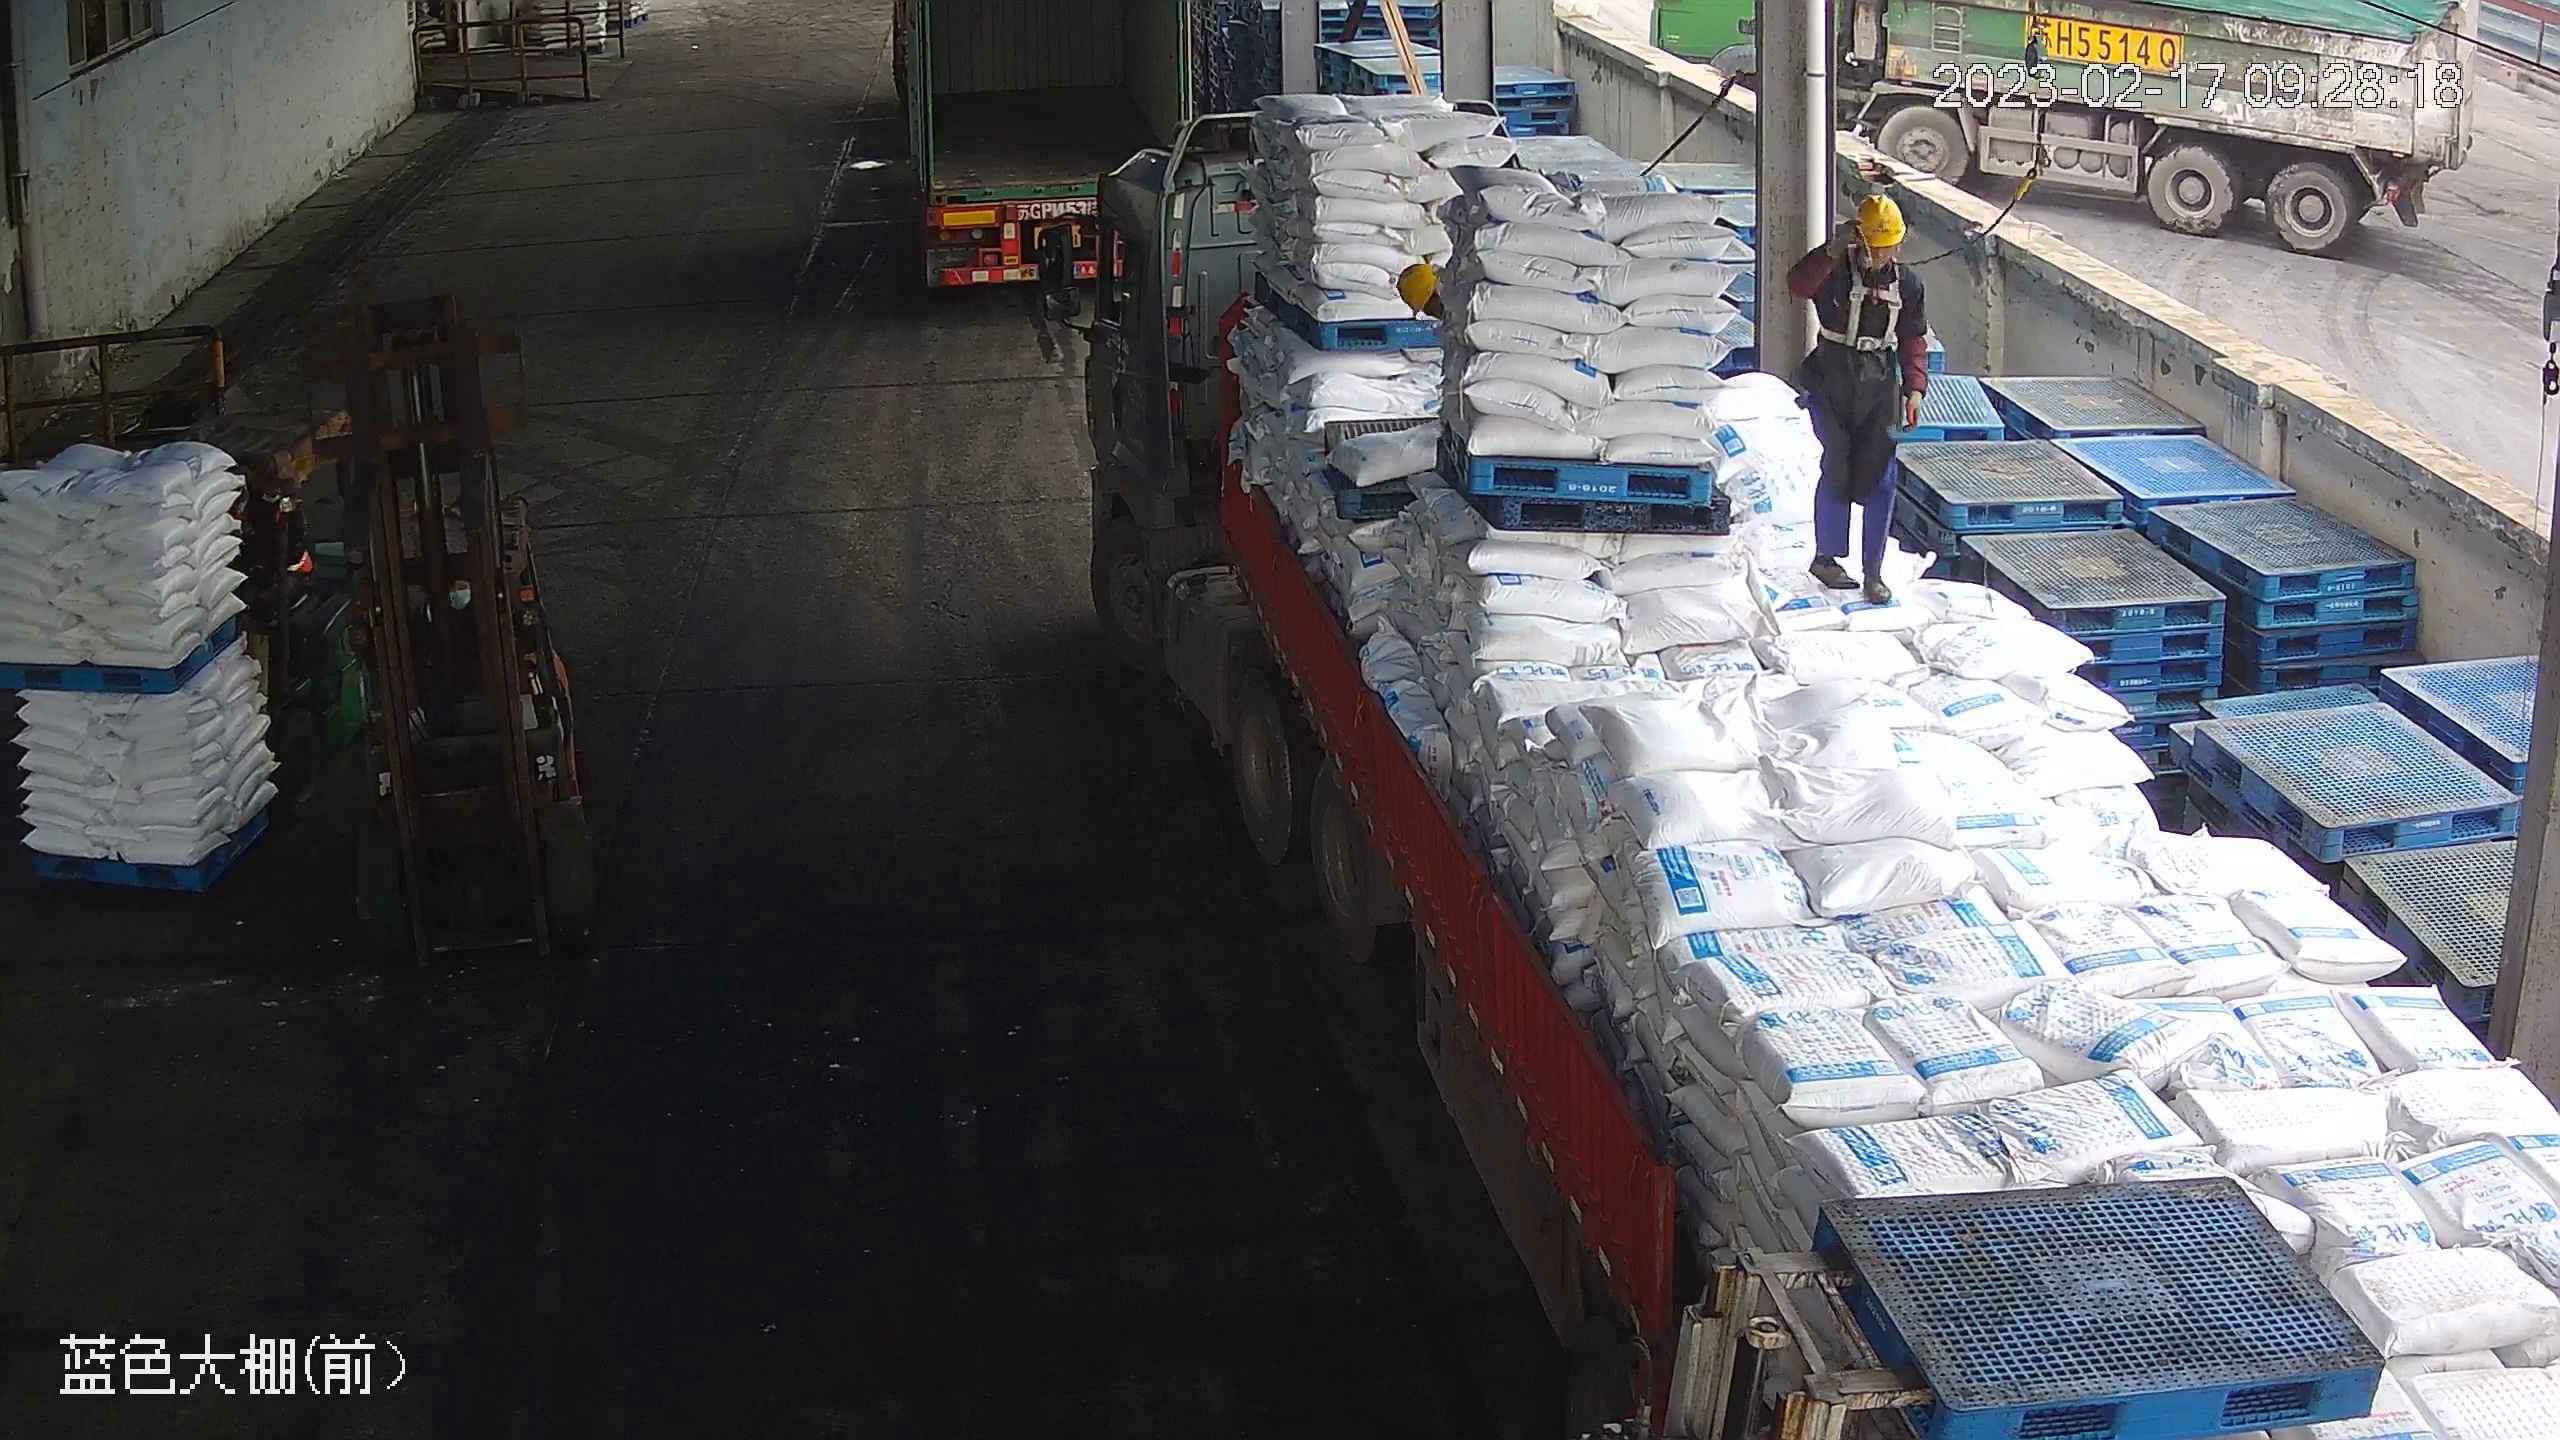belt: (1826, 253, 1908, 348)
head: (1803, 187, 1926, 307)
helmet: (1850, 189, 1905, 249), (1392, 258, 1439, 310)
people: (1781, 190, 1931, 604)
truck: (1045, 94, 2547, 1440), (887, 0, 1203, 299)
